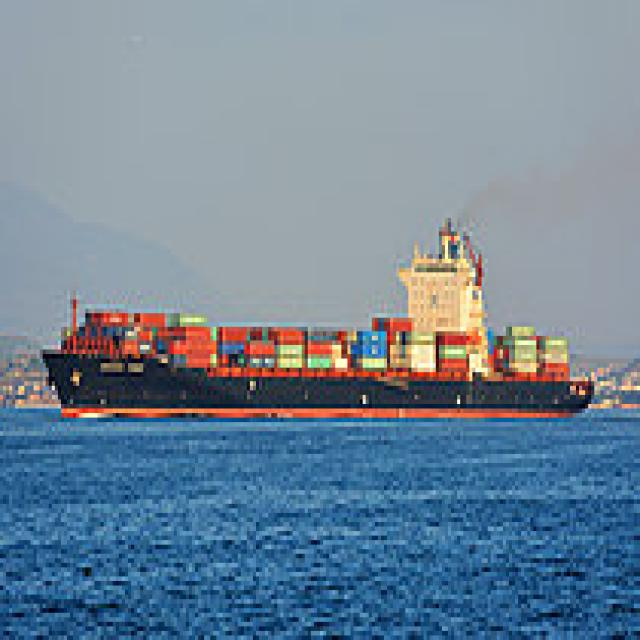Cargo: (34, 209, 598, 413)
